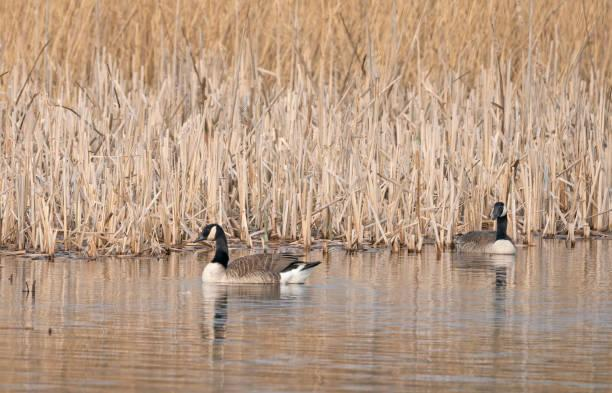Canadian-Goose: (192, 222, 320, 286), (451, 198, 518, 258)
